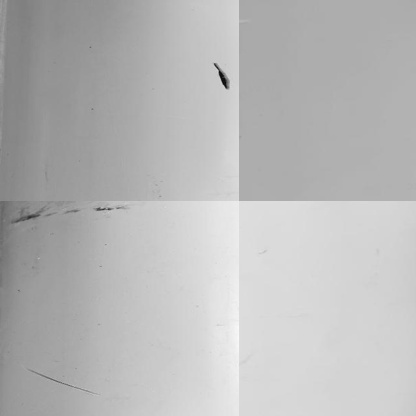kongdong: (208, 61, 233, 94)
